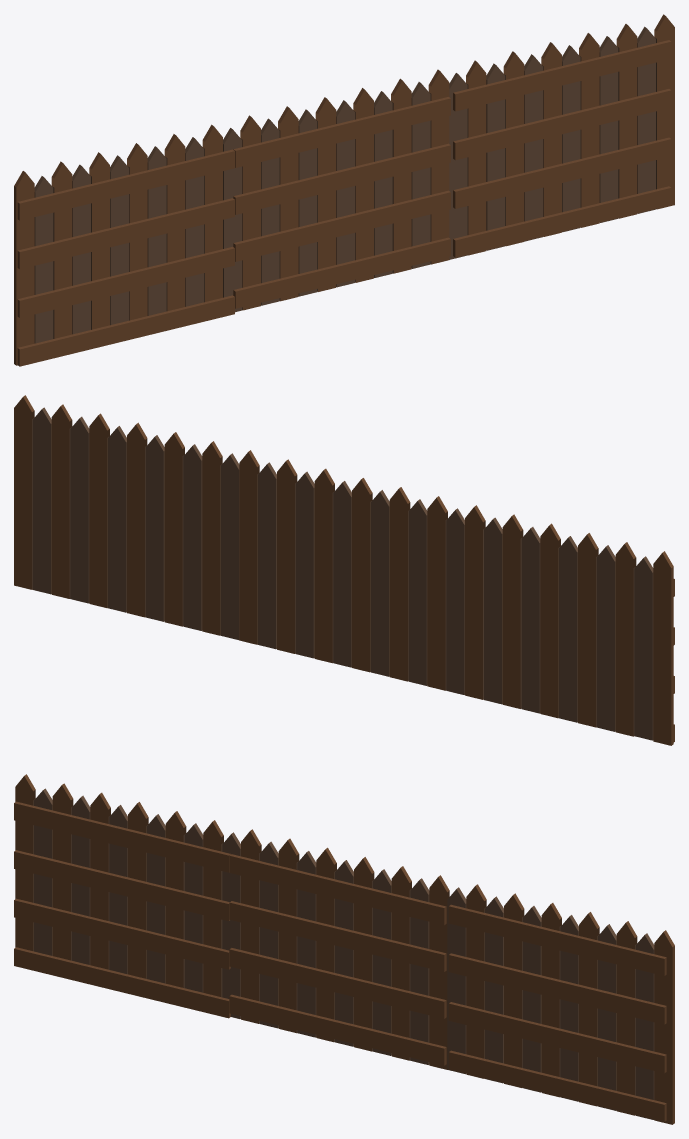
Rendered from fence.fbx.
3 views of the same model, one above another, from view 1: azimuth 30°, elevation 25°; view 2: azimuth 150°, elevation 25°; view 3: azimuth 330°, elevation 25° (orthographic).
Visible parts, largest first — view 1: Cube.003; view 2: Cube.003; view 3: Cube.003.
Part boxes in pixels (x1,y1,x2,y2): Cube.003: (14, 14, 674, 366); Cube.003: (14, 395, 674, 745); Cube.003: (14, 774, 674, 1124).
Bounding box in the file's own units: 2187 × 607 × 27.13.
